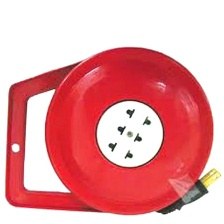three_eye_plug: (40, 43, 219, 218)
